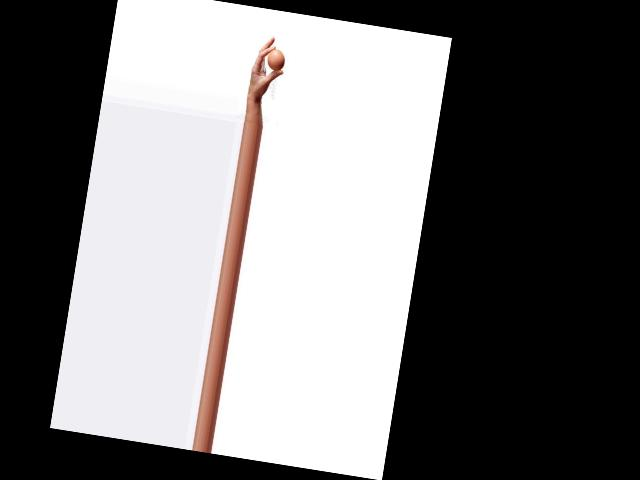egg: (266, 48, 286, 72)
